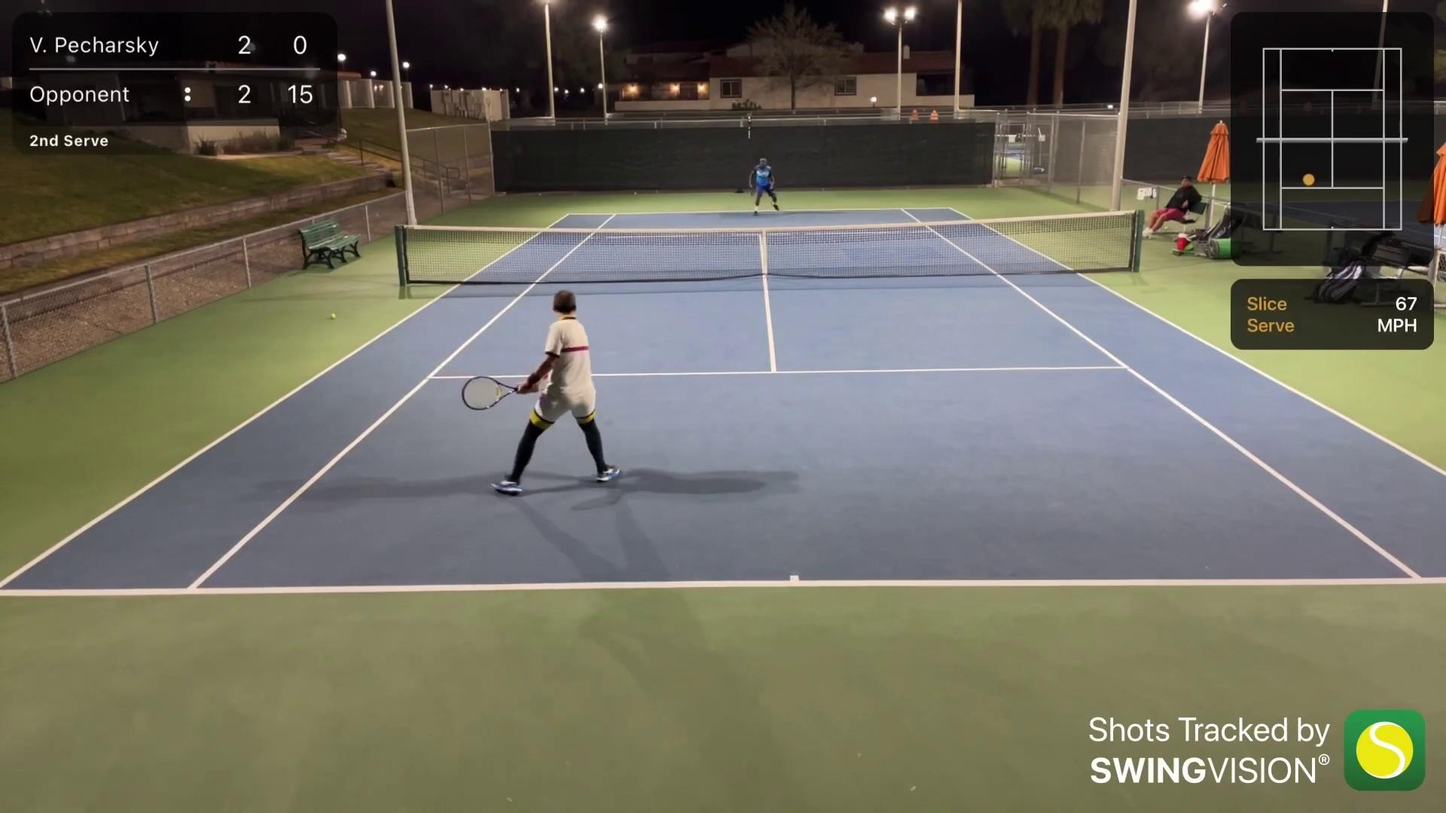ball: (326, 311, 341, 321)
